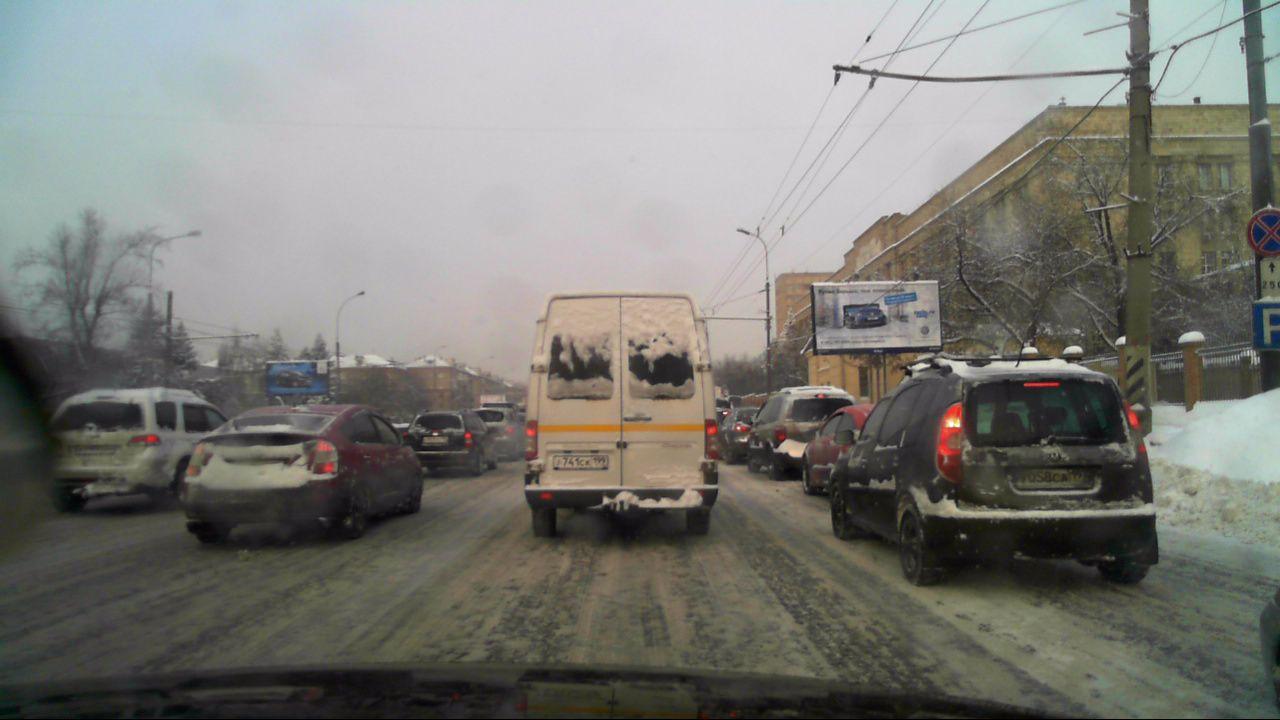No Parking: (1245, 206, 1279, 256)
